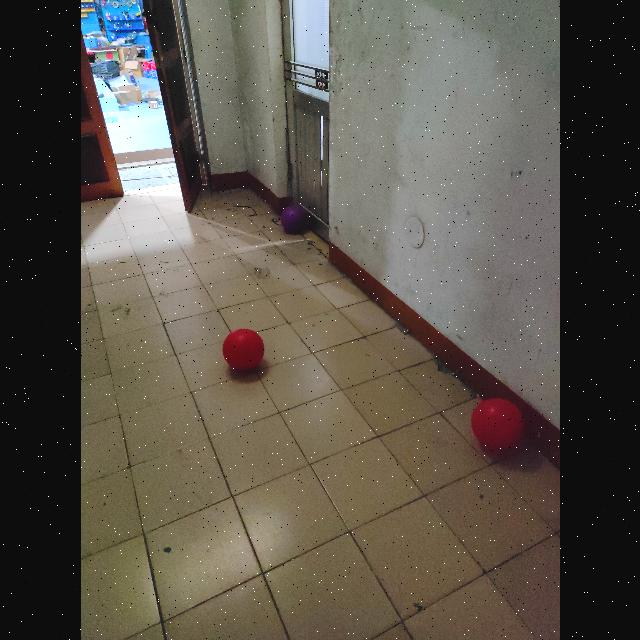P: (279, 202, 307, 234)
R: (470, 398, 524, 454), (220, 328, 264, 372)
